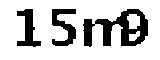1: (13, 9, 44, 52)
5: (50, 6, 78, 50)
9: (129, 6, 151, 52)
m: (80, 14, 129, 48)
